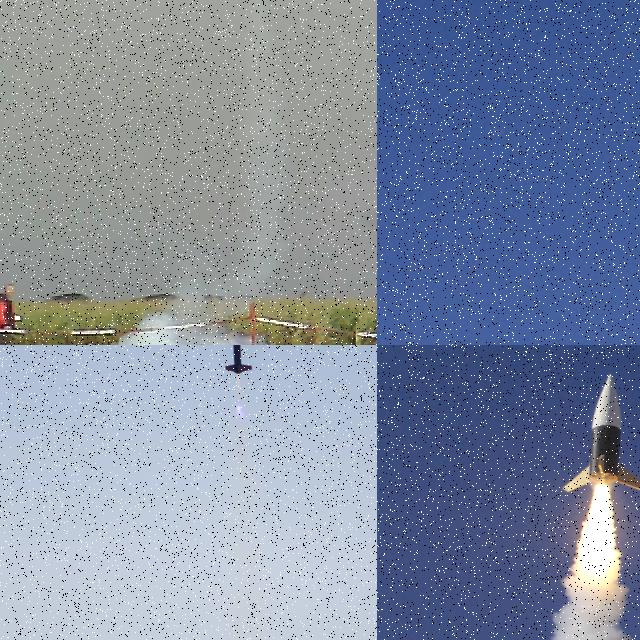Rocket: (560, 372, 640, 493), (224, 345, 253, 376)
